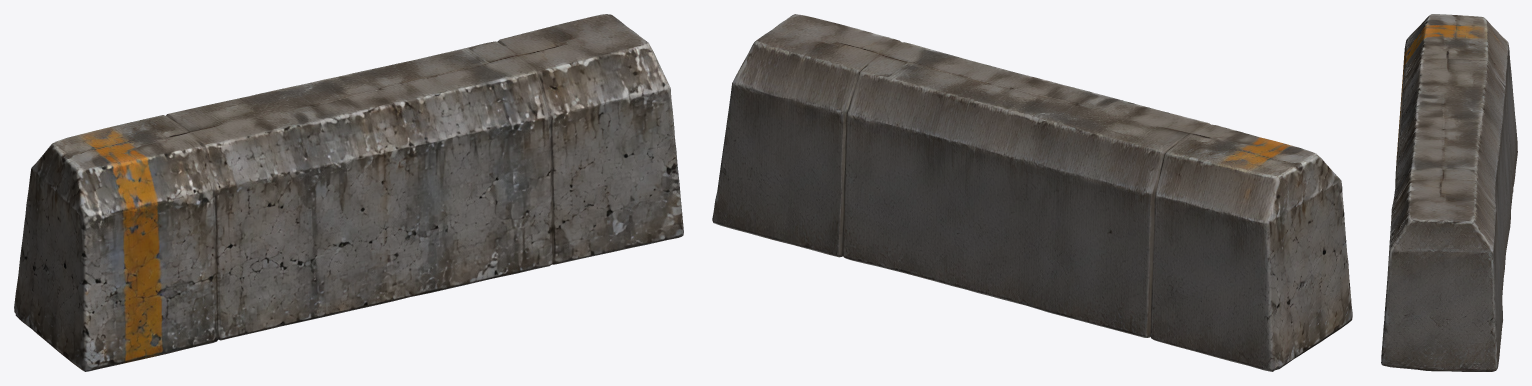
Rendered from ARCH-COVER-CONCRETE-lod0.glb.
3 renders of one model, left to right at view 1: azimuth 30°, elevation 25°; view 2: azimuth 150°, elevation 25°; view 3: azimuth 270°, elevation 25°, orthographic. The views are drawn at different scales.
Parts seen in each view (by area): view 1: Mesh; view 2: Mesh; view 3: Mesh.
Part boxes in pixels (left/top/right/bottom): Mesh: left=14, top=14, right=683, bottom=371; Mesh: left=712, top=14, right=1352, bottom=371; Mesh: left=1381, top=14, right=1517, bottom=371.
Bounding box in the file's own units: 1.9 × 0.5576 × 0.4883.
Materials: 1 (1 with a texture image).
